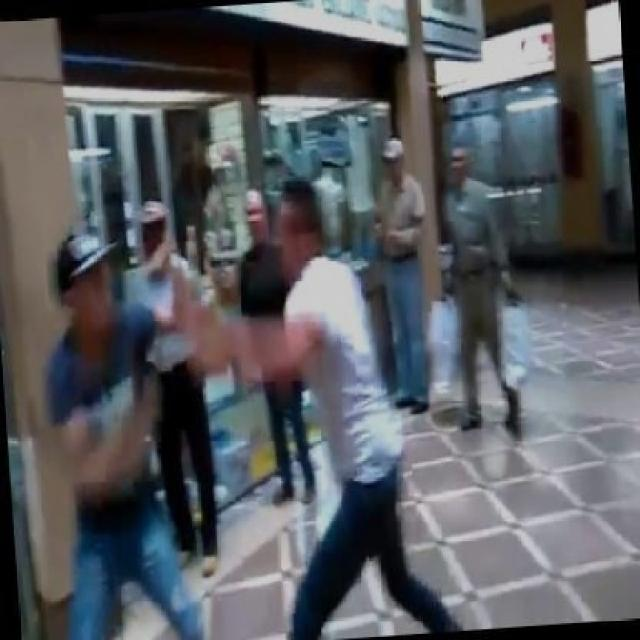fight: (35, 175, 465, 640)
non-fight: (119, 198, 225, 576), (233, 184, 323, 509), (441, 143, 527, 439), (363, 132, 437, 408)
